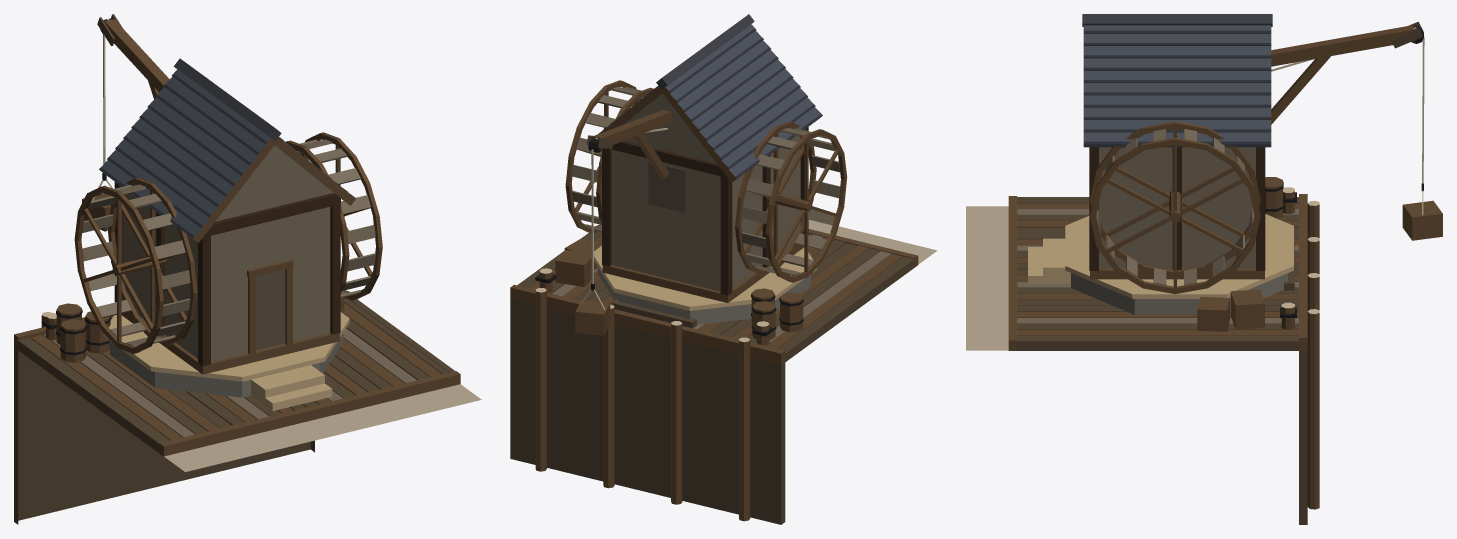
File: wasser_kran.glb
3 renders of one model, left to right at view 1: azimuth 30°, elevation 25°; view 2: azimuth 150°, elevation 25°; view 3: azimuth 270°, elevation 25°, orthographic. The views are drawn at different scales.
Parts seen in each view (by area): view 1: Haus, Kranhaus, Tretrad; view 2: Haus, Kranhaus, Tretrad; view 3: Kranhaus, Haus, Tretrad.
Part boxes in pixels (x1,y1,x2,y2): Haus: (14, 297, 481, 524); Kranhaus: (82, 14, 356, 374); Tretrad: (74, 132, 382, 353); Haus: (510, 220, 937, 524); Kranhaus: (575, 14, 822, 335); Tretrad: (565, 80, 847, 282); Kranhaus: (1082, 14, 1442, 279); Haus: (966, 177, 1319, 524); Tretrad: (1090, 121, 1260, 293).
Size of the model in its own units: 8 by 11.34 by 11.17.
